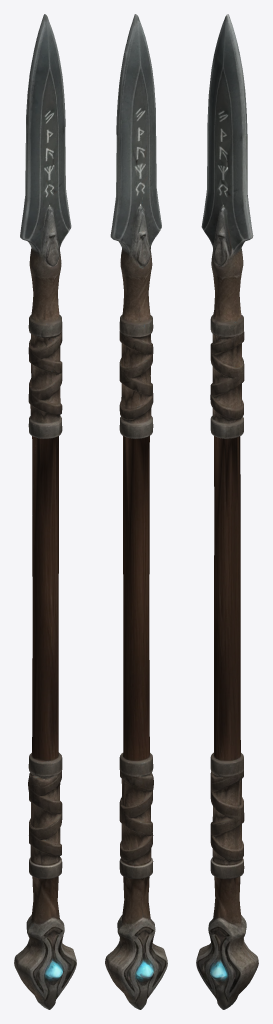
3 renders of one model, left to right at view 1: azimuth 30°, elevation 25°; view 2: azimuth 210°, elevation 25°; view 3: azimuth 330°, elevation 25°, orthographic.
Visible parts, largest first — view 1: Mesh1.0; view 2: Mesh1.0; view 3: Mesh1.0.
Part boxes in pixels (x1=…): Mesh1.0: x1=14, y1=14, x2=76, y2=1009; Mesh1.0: x1=105, y1=14, x2=167, y2=1009; Mesh1.0: x1=196, y1=14, x2=258, y2=1009.
Size of the model in its own units: 0.1125 by 1.9 by 0.0883.
1 material, 1 textured.
